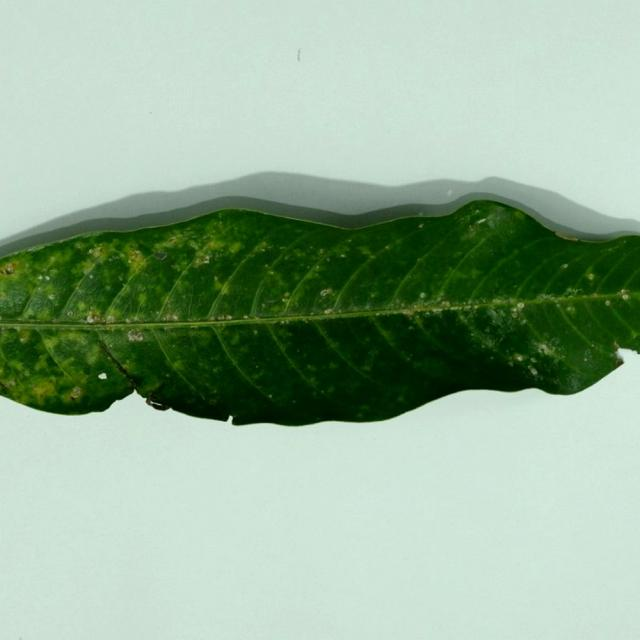Mango: (0, 195, 639, 426)
Powdery_Mildew: (527, 273, 629, 319), (17, 256, 78, 307), (406, 296, 521, 319), (520, 337, 563, 369), (120, 247, 148, 277), (193, 236, 219, 268), (206, 273, 235, 297), (30, 379, 59, 401), (416, 304, 456, 318), (89, 309, 112, 332), (195, 311, 240, 322), (469, 214, 495, 232), (83, 311, 113, 325), (146, 393, 170, 410), (161, 234, 184, 249), (582, 267, 602, 284), (510, 353, 531, 366), (612, 341, 624, 363), (0, 262, 16, 277), (537, 343, 554, 356), (128, 250, 144, 263), (127, 330, 144, 342), (554, 232, 579, 240), (19, 330, 33, 343), (195, 254, 210, 266), (406, 306, 424, 316), (0, 378, 11, 394), (70, 387, 82, 400), (188, 240, 202, 251), (565, 287, 582, 296), (538, 293, 555, 302), (90, 246, 105, 256), (153, 251, 167, 260), (320, 288, 332, 297), (257, 243, 268, 252), (6, 326, 18, 333), (529, 366, 538, 375), (97, 372, 107, 380), (83, 266, 92, 274), (6, 380, 16, 387), (163, 314, 172, 321), (514, 354, 523, 361), (27, 312, 36, 319), (477, 218, 487, 224), (621, 289, 629, 296), (209, 398, 218, 404), (365, 303, 372, 310), (133, 250, 141, 256), (19, 337, 27, 343), (74, 243, 82, 249), (442, 301, 450, 307), (169, 236, 177, 242), (283, 292, 290, 298), (517, 303, 524, 309), (125, 318, 132, 324), (419, 292, 426, 298), (324, 309, 332, 314), (88, 249, 94, 255), (172, 314, 178, 320), (319, 249, 325, 255), (408, 325, 414, 331), (231, 413, 237, 419), (561, 264, 568, 269), (255, 314, 262, 319), (210, 316, 217, 321), (401, 302, 408, 307), (375, 312, 382, 317), (193, 323, 200, 328), (418, 223, 424, 228), (37, 275, 43, 280), (474, 209, 480, 214), (253, 330, 259, 335), (418, 211, 424, 216), (269, 271, 275, 276), (261, 303, 266, 308), (315, 266, 320, 271), (623, 240, 628, 245), (119, 275, 123, 281), (340, 254, 345, 258), (282, 298, 287, 302), (310, 312, 315, 316), (45, 276, 50, 280), (89, 274, 94, 278), (165, 373, 170, 377), (128, 259, 132, 263), (268, 394, 272, 398), (265, 264, 269, 268), (280, 321, 285, 324)
